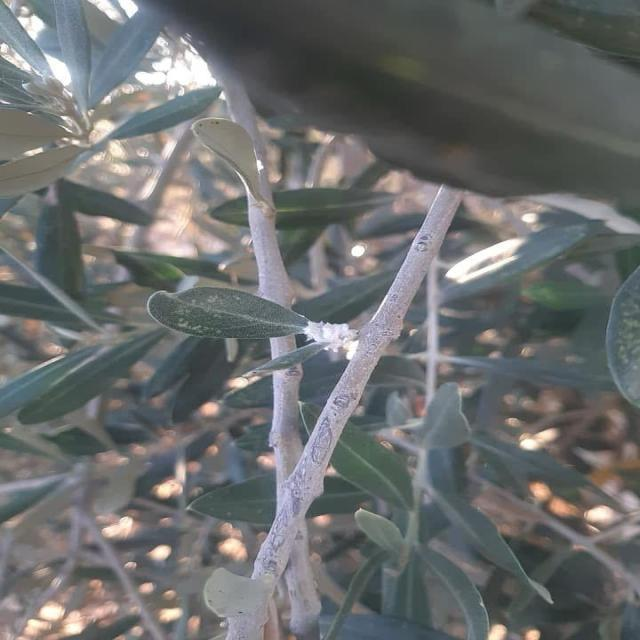Psyllid: (300, 320, 358, 360)
